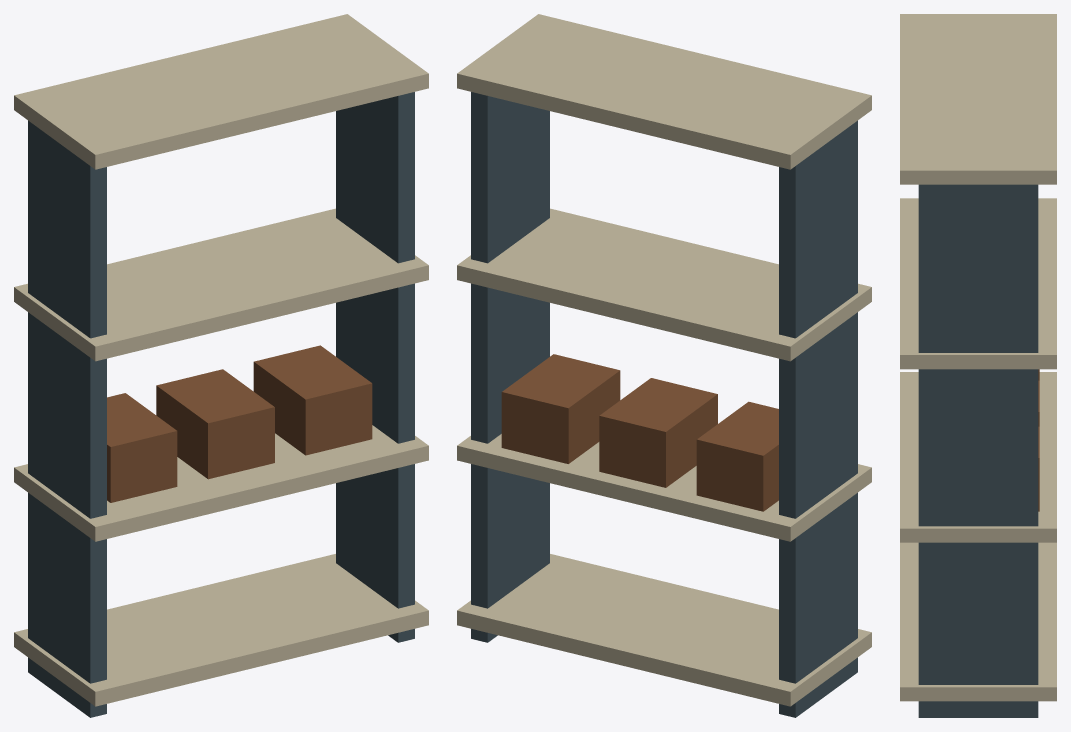
Rendered from metal_shelving.glb.
The picture shows the model from 3 angles, left to right: view 1: azimuth 30°, elevation 25°; view 2: azimuth 150°, elevation 25°; view 3: azimuth 270°, elevation 25°; orthographic projection. The views are drawn at different scales.
Parts seen in each view (by area): view 1: metal_shelving; view 2: metal_shelving; view 3: metal_shelving.
Part boxes in pixels (x1,y1,x2,y2): metal_shelving: (14,14,428,717); metal_shelving: (457,14,871,717); metal_shelving: (900,14,1056,717).
Bounding box in the file's own units: 1.3 × 2.13 × 0.55.
